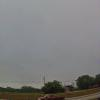Tree: (70, 66, 100, 90)
